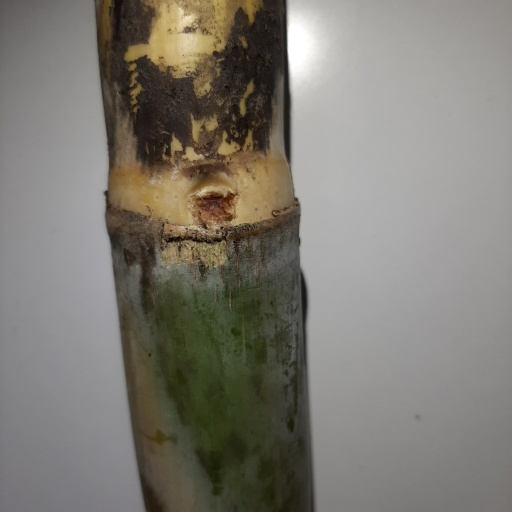Damage_Bud: (192, 180, 234, 227)
